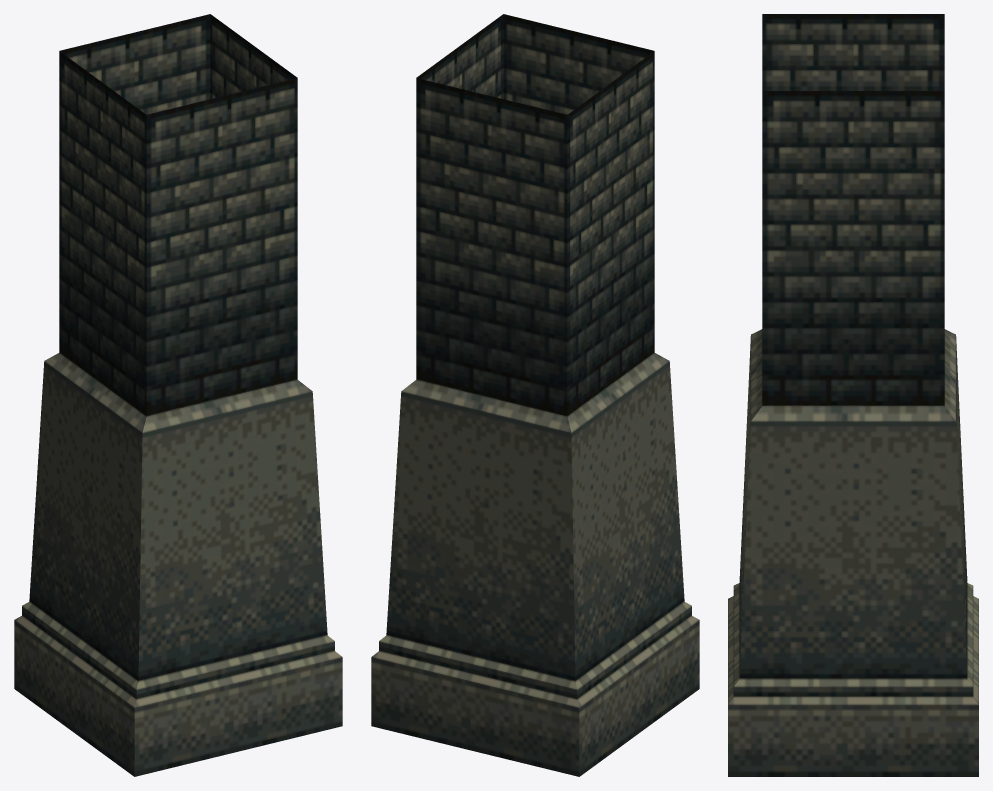
Rendered from EnvBdgMD_Castle_Raimei_A_BridgeFoot_A_End_A.FBX.
The picture shows the model from 3 angles, left to right: view 1: azimuth 30°, elevation 25°; view 2: azimuth 150°, elevation 25°; view 3: azimuth 270°, elevation 25°; orthographic projection. The views are drawn at different scales.
Visible parts, largest first — view 1: EnvBdgMD_Castle_Raimei_A_BridgeFoot_A_End_A; view 2: EnvBdgMD_Castle_Raimei_A_BridgeFoot_A_End_A; view 3: EnvBdgMD_Castle_Raimei_A_BridgeFoot_A_End_A.
Boxes of the visible parts, box(x1,y1,x2,y2) form: EnvBdgMD_Castle_Raimei_A_BridgeFoot_A_End_A: box(14, 14, 342, 776); EnvBdgMD_Castle_Raimei_A_BridgeFoot_A_End_A: box(371, 14, 699, 776); EnvBdgMD_Castle_Raimei_A_BridgeFoot_A_End_A: box(728, 14, 978, 776).
Size of the model in its own units: 220 by 650 by 220.
